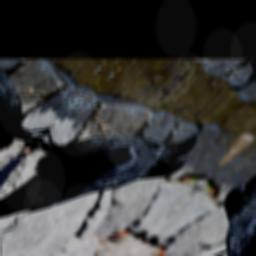Crow: (0, 82, 212, 256)
